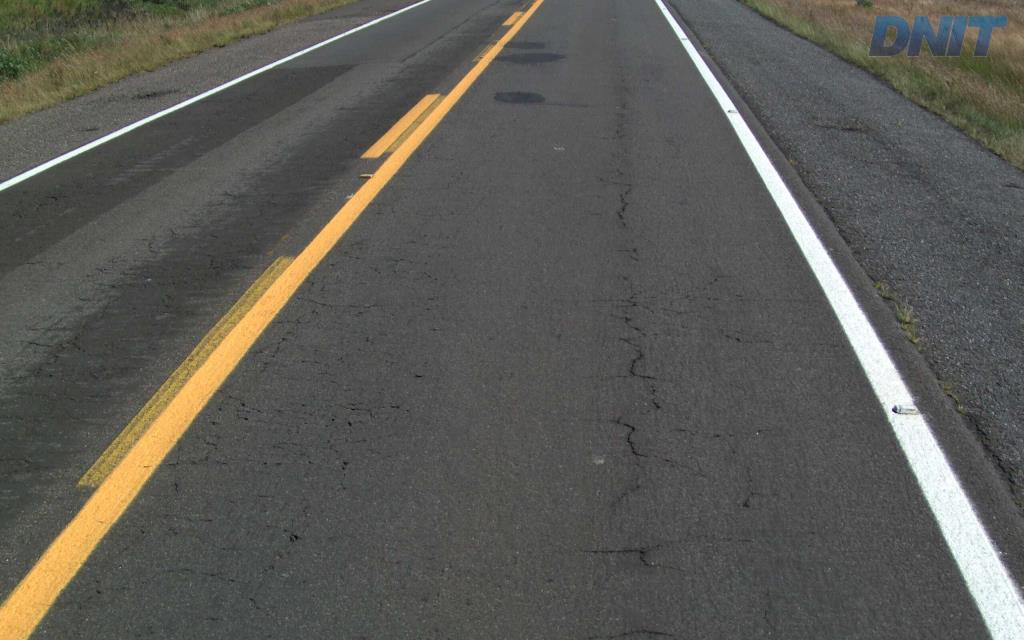crack: (580, 542, 675, 574)
